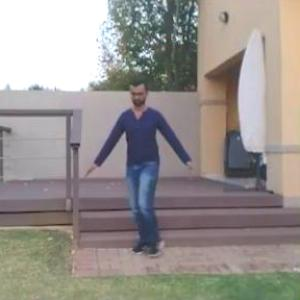land: (97, 82, 207, 264)
